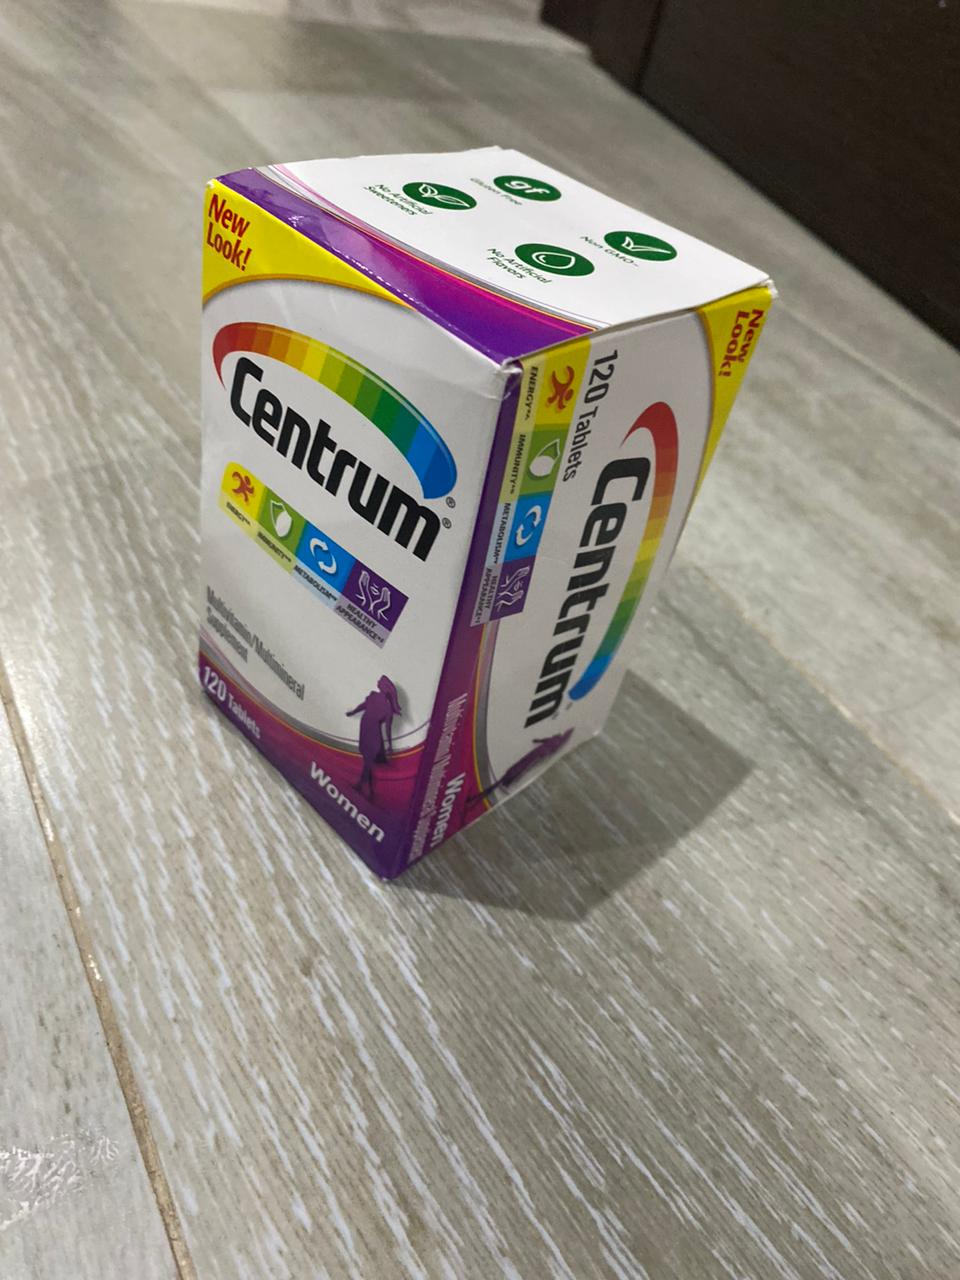Centrum: (190, 124, 782, 887)
